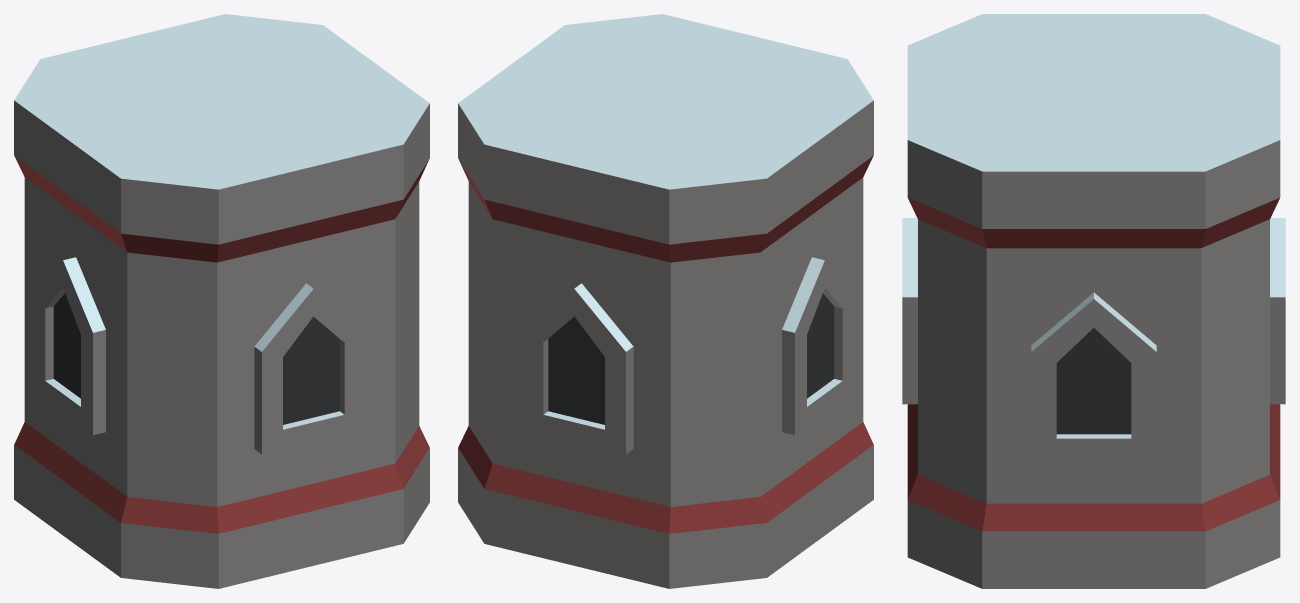
Rendered from SM_Bld_Knights_Castle_07_Snow.fbx.
The picture shows the model from 3 angles, left to right: view 1: azimuth 30°, elevation 25°; view 2: azimuth 150°, elevation 25°; view 3: azimuth 270°, elevation 25°; orthographic projection. The views are drawn at different scales.
Parts seen in each view (by area): view 1: SM_Bld_Knights_Castle_07_Snow; view 2: SM_Bld_Knights_Castle_07_Snow; view 3: SM_Bld_Knights_Castle_07_Snow.
Boxes of the visible parts, left/top/right/bottom form: SM_Bld_Knights_Castle_07_Snow: left=14, top=14, right=429, bottom=588; SM_Bld_Knights_Castle_07_Snow: left=458, top=14, right=873, bottom=588; SM_Bld_Knights_Castle_07_Snow: left=902, top=14, right=1285, bottom=588.
Size of the model in its own units: 73 by 87.64 by 73.
Materials: 1 (1 with a texture image).
